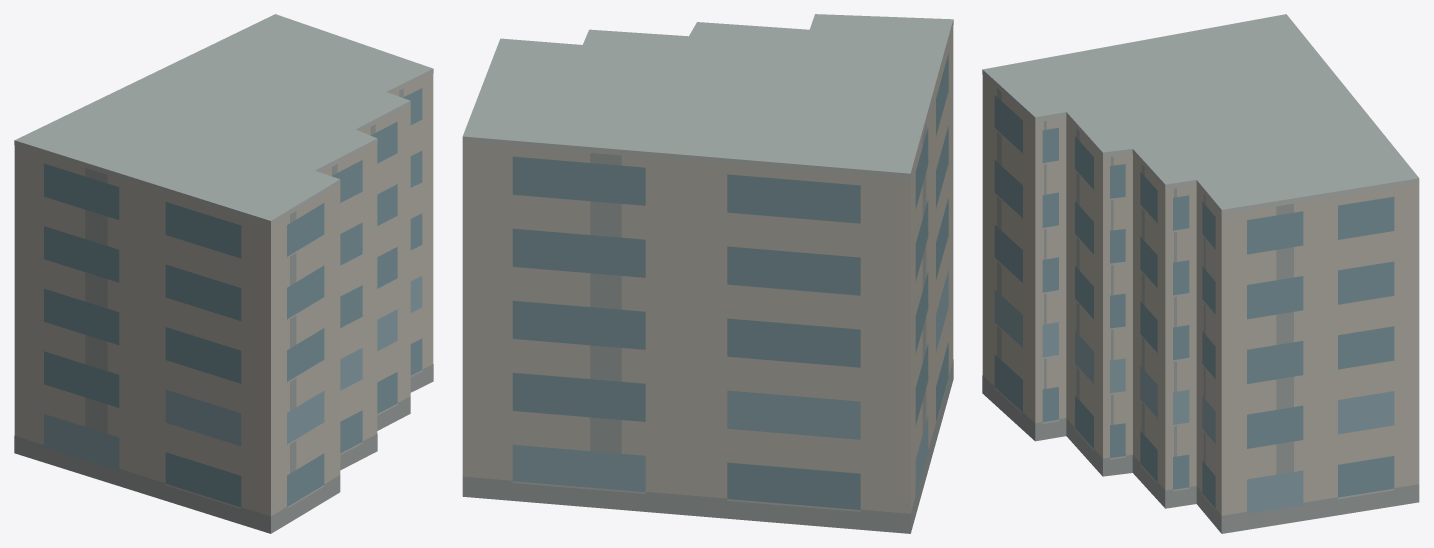
Rendered from survey-upis-33017132.glb.
3 renders of one model, left to right at view 1: azimuth 30°, elevation 25°; view 2: azimuth 150°, elevation 25°; view 3: azimuth 270°, elevation 25°, orthographic. The views are drawn at different scales.
Visible parts, largest first — view 1: survey-upis-33017132.tmp; view 2: survey-upis-33017132.tmp; view 3: survey-upis-33017132.tmp.
Part boxes in pixels (x1=…): survey-upis-33017132.tmp: x1=14, y1=14, x2=433, y2=533; survey-upis-33017132.tmp: x1=462, y1=14, x2=953, y2=533; survey-upis-33017132.tmp: x1=982, y1=14, x2=1419, y2=533.
Bounding box in the file's own units: 19.35 × 14.92 × 18.24.
